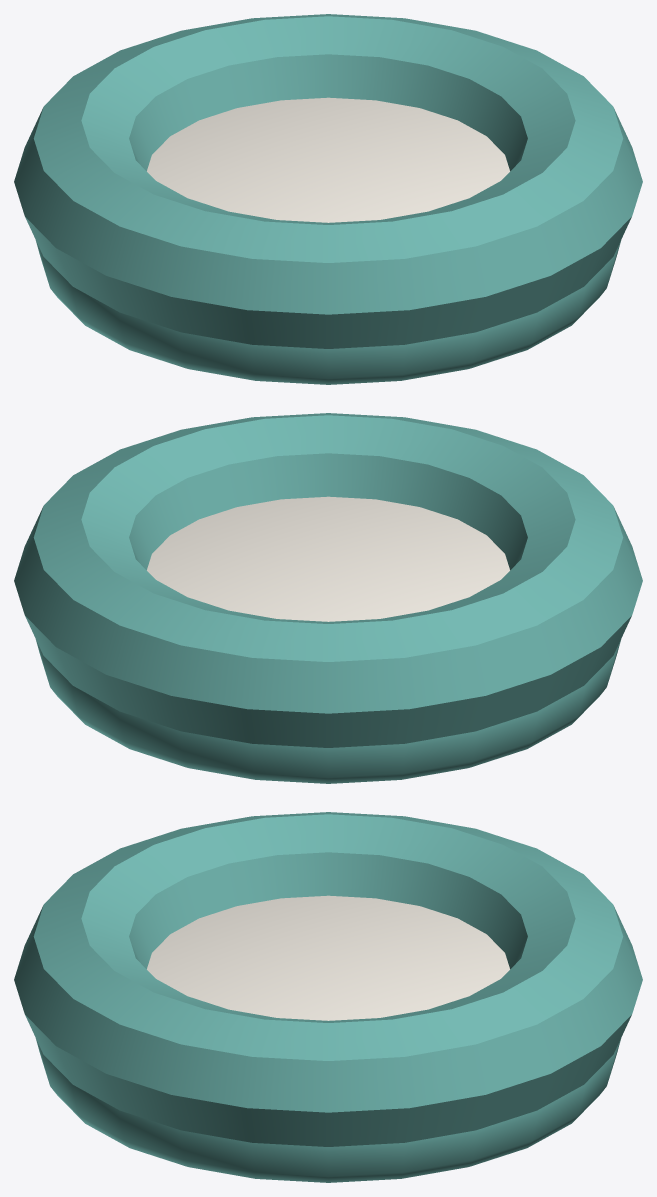
File: t_bed_teal.gltf
The picture shows the model from 3 angles, top to bottom: view 1: azimuth 30°, elevation 25°; view 2: azimuth 150°, elevation 25°; view 3: azimuth 270°, elevation 25°; orthographic projection.
Parts seen in each view (by area): view 1: t_bed_teal; view 2: t_bed_teal; view 3: t_bed_teal.
Boxes of the visible parts, x1,y1,x2,y2 form: t_bed_teal: [14, 14, 642, 384]; t_bed_teal: [14, 413, 642, 783]; t_bed_teal: [14, 812, 642, 1182].
Size of the model in its own units: 0.84 by 0.22 by 0.84.
Materials: 1 (1 with a texture image).
